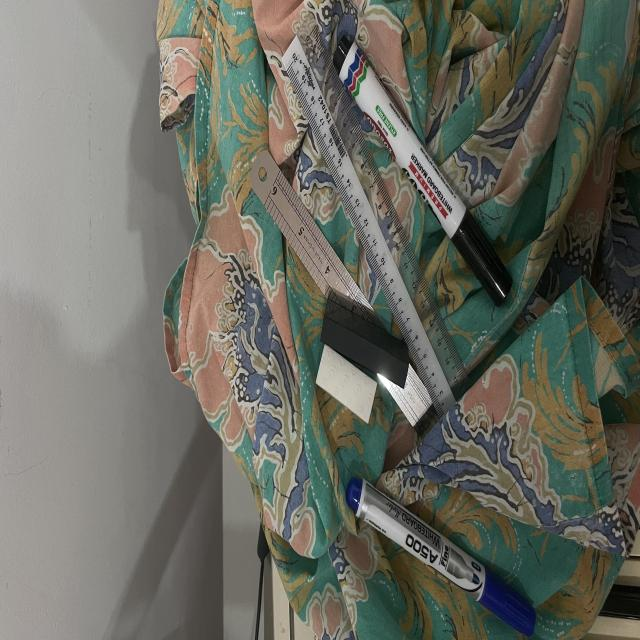eraser: (321, 299, 409, 387), (316, 345, 377, 422)
marker: (334, 39, 511, 304), (348, 478, 536, 636)
ruler: (282, 18, 468, 417), (251, 151, 383, 328), (380, 365, 431, 426)
